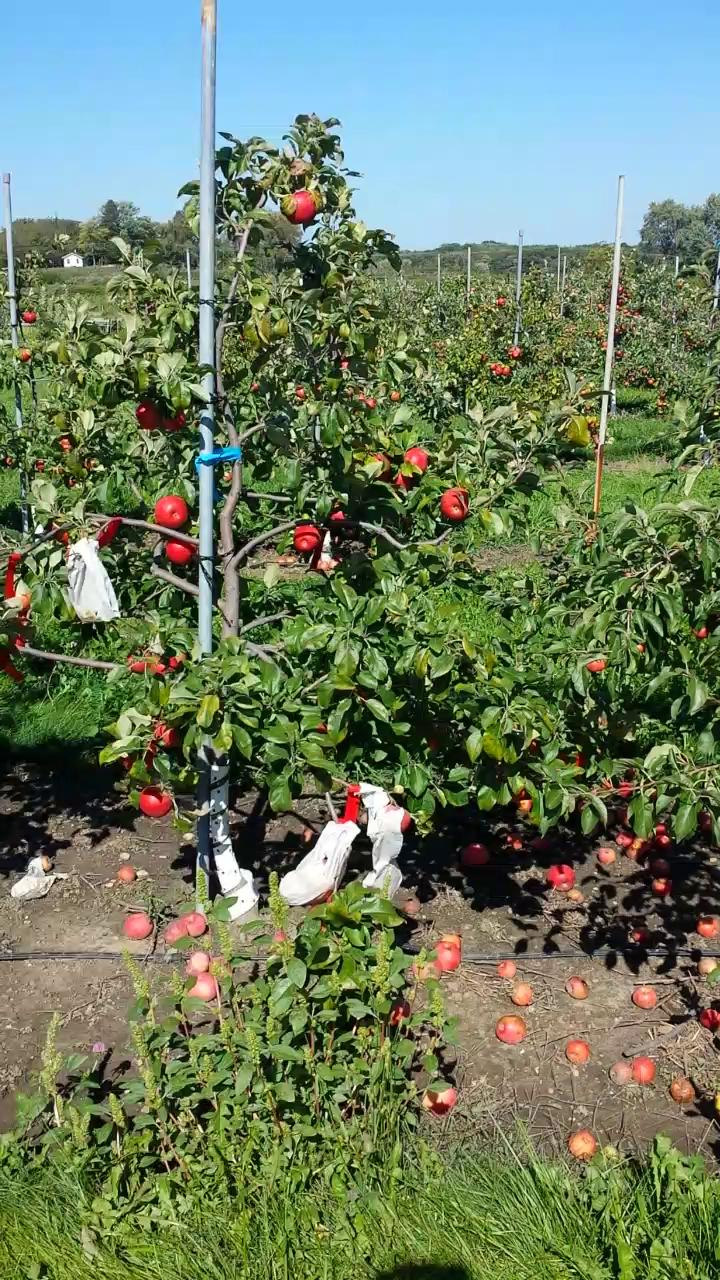Apple: (119, 738, 159, 772), (3, 631, 28, 680), (284, 189, 318, 223), (140, 787, 171, 818), (291, 522, 323, 552), (147, 651, 187, 675), (155, 494, 185, 525), (440, 487, 468, 520), (155, 722, 181, 750), (165, 537, 192, 562), (598, 777, 633, 796), (372, 452, 393, 482), (135, 402, 158, 429), (98, 520, 121, 547), (405, 446, 427, 471), (555, 750, 585, 767), (512, 787, 531, 813), (158, 413, 184, 431), (304, 888, 333, 904), (355, 390, 376, 412), (50, 522, 71, 544), (127, 653, 150, 672), (584, 656, 607, 675), (7, 610, 31, 627), (395, 471, 418, 488), (695, 810, 712, 832), (399, 807, 411, 831), (691, 624, 710, 639), (19, 590, 31, 610), (617, 805, 629, 824), (329, 507, 345, 521), (337, 357, 350, 370), (635, 642, 647, 653), (527, 739, 538, 751)
